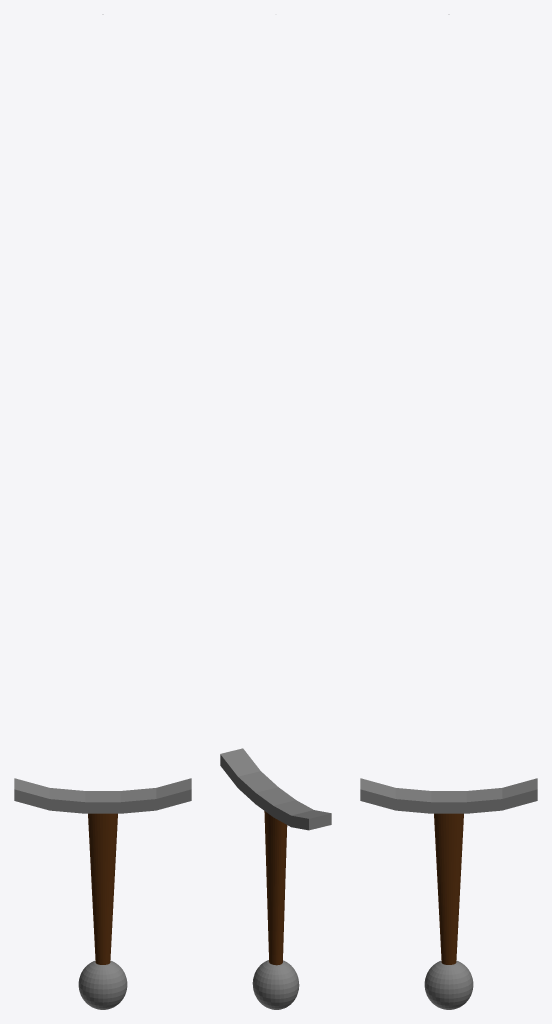
Rendered from Longsword.fbx.
3 renders of one model, left to right at view 1: azimuth 90°, elevation 25°; view 2: azimuth 210°, elevation 25°; view 3: azimuth 270°, elevation 25°, orthographic.
Parts seen in each view (by area): view 1: Cube.001; view 2: Cube.001; view 3: Cube.001.
Boxes of the visible parts, <box> form: Cube.001: <box>14,14,191,1009</box>; Cube.001: <box>220,748,331,1009</box>; Cube.001: <box>360,14,537,1009</box>.
Size of the model in its own units: 48.82 by 1168 by 189.
